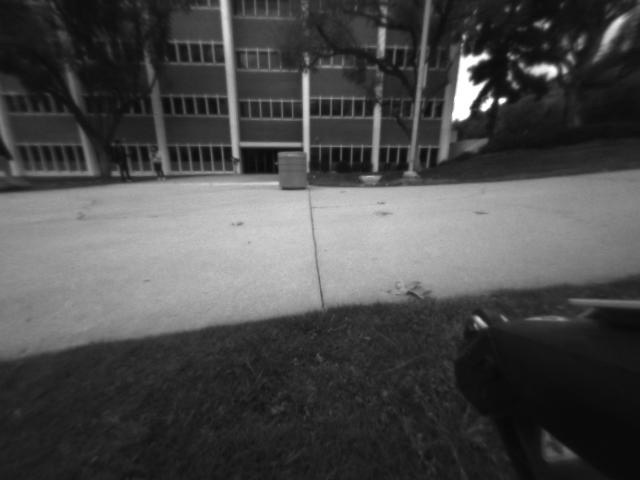trashcan: (272, 151, 312, 196)
